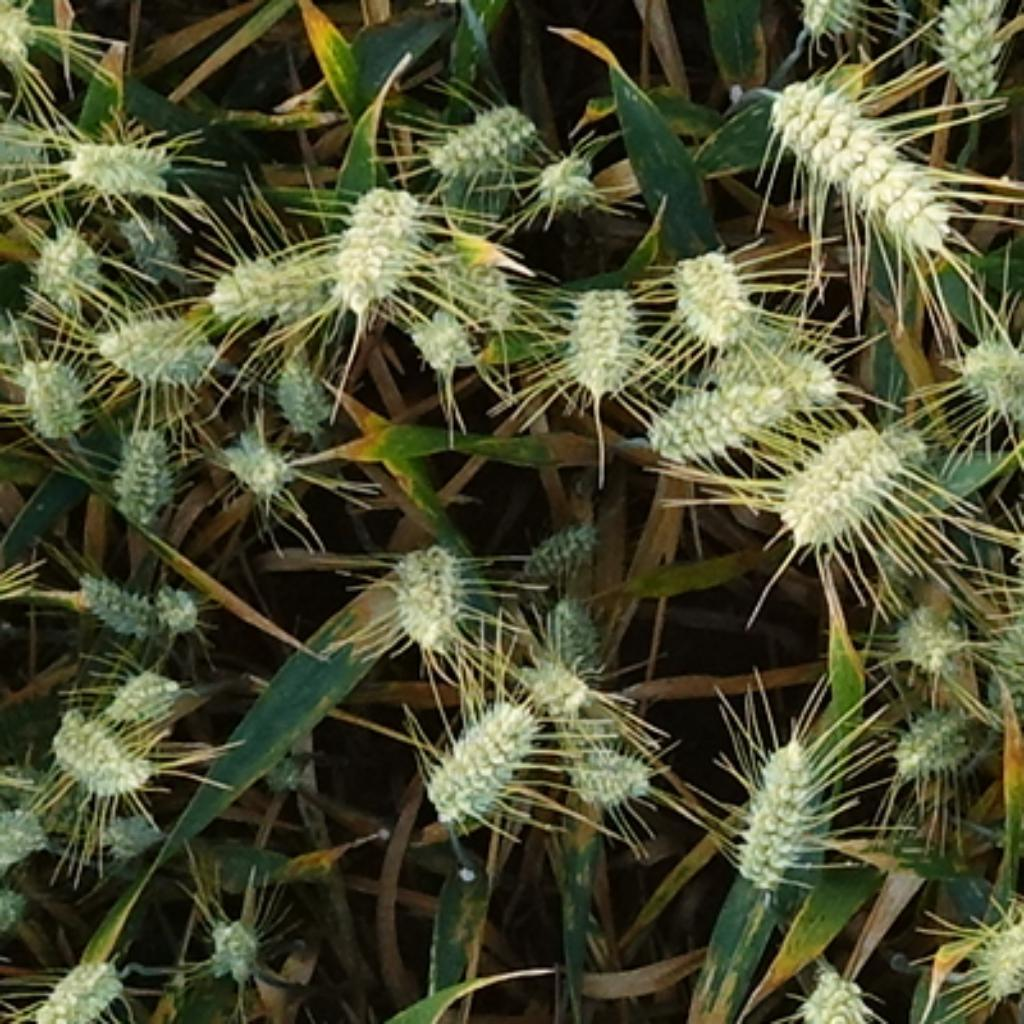0-0: (757, 66, 967, 250), (761, 421, 926, 552), (721, 721, 832, 890), (414, 680, 540, 821), (322, 168, 432, 302), (645, 381, 811, 455), (378, 527, 473, 645), (207, 235, 335, 320), (660, 235, 760, 340), (94, 296, 217, 381), (555, 273, 645, 389), (424, 87, 540, 176), (711, 337, 847, 409), (46, 698, 151, 791), (58, 115, 181, 192), (28, 939, 130, 1024), (924, 2, 1013, 97), (25, 215, 110, 314), (102, 419, 179, 527), (888, 691, 983, 773), (778, 949, 880, 1024), (71, 558, 171, 634), (17, 353, 97, 448), (430, 232, 519, 317), (512, 506, 604, 583), (104, 657, 187, 740), (954, 317, 1024, 414), (565, 739, 655, 814), (963, 898, 1024, 1002), (888, 588, 970, 665), (215, 417, 296, 494), (513, 657, 605, 723), (547, 590, 618, 675), (0, 806, 73, 883), (268, 345, 335, 424), (197, 901, 266, 975), (404, 296, 476, 363), (112, 199, 184, 266), (529, 138, 601, 204), (147, 586, 208, 645), (0, 115, 52, 182), (99, 807, 163, 861), (2, 2, 43, 76), (792, 0, 877, 32)
